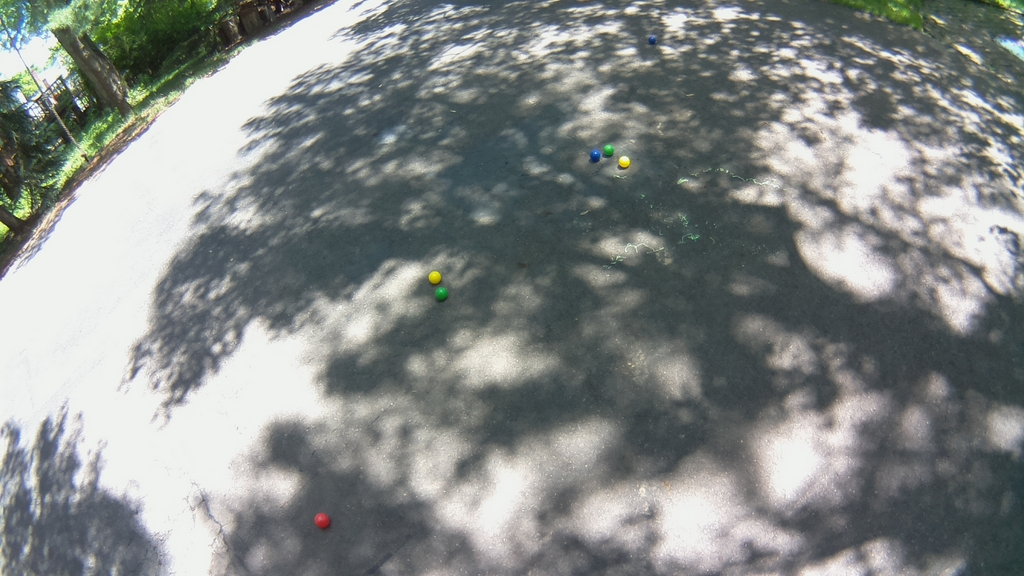ball: (435, 286, 447, 300)
